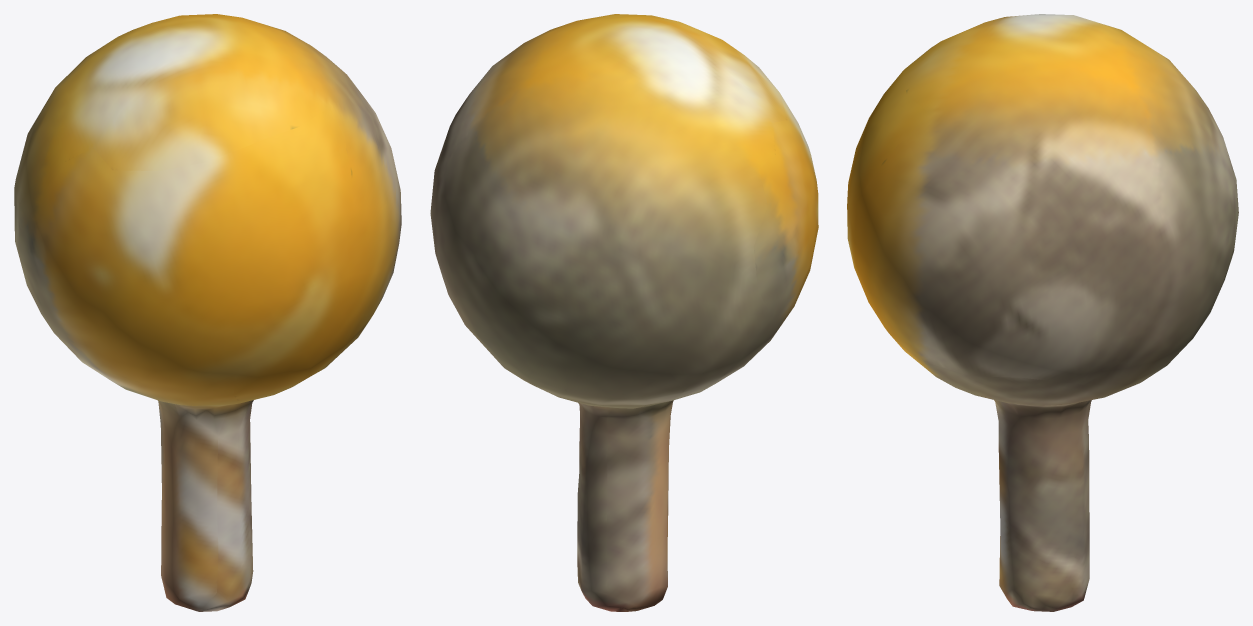
The model's file is CF_Lollipop_Yellow.fbx.
3 renders of one model, left to right at view 1: azimuth 30°, elevation 25°; view 2: azimuth 150°, elevation 25°; view 3: azimuth 270°, elevation 25°, orthographic.
Visible parts, largest first — view 1: CF_Lollipop_Yellow; view 2: CF_Lollipop_Yellow; view 3: CF_Lollipop_Yellow.
Part boxes in pixels (x1,y1,x2,y2): CF_Lollipop_Yellow: [14, 14, 401, 611]; CF_Lollipop_Yellow: [430, 14, 818, 611]; CF_Lollipop_Yellow: [847, 14, 1238, 611].
Bounding box in the file's own units: 0.5578 × 0.9 × 0.5613.
